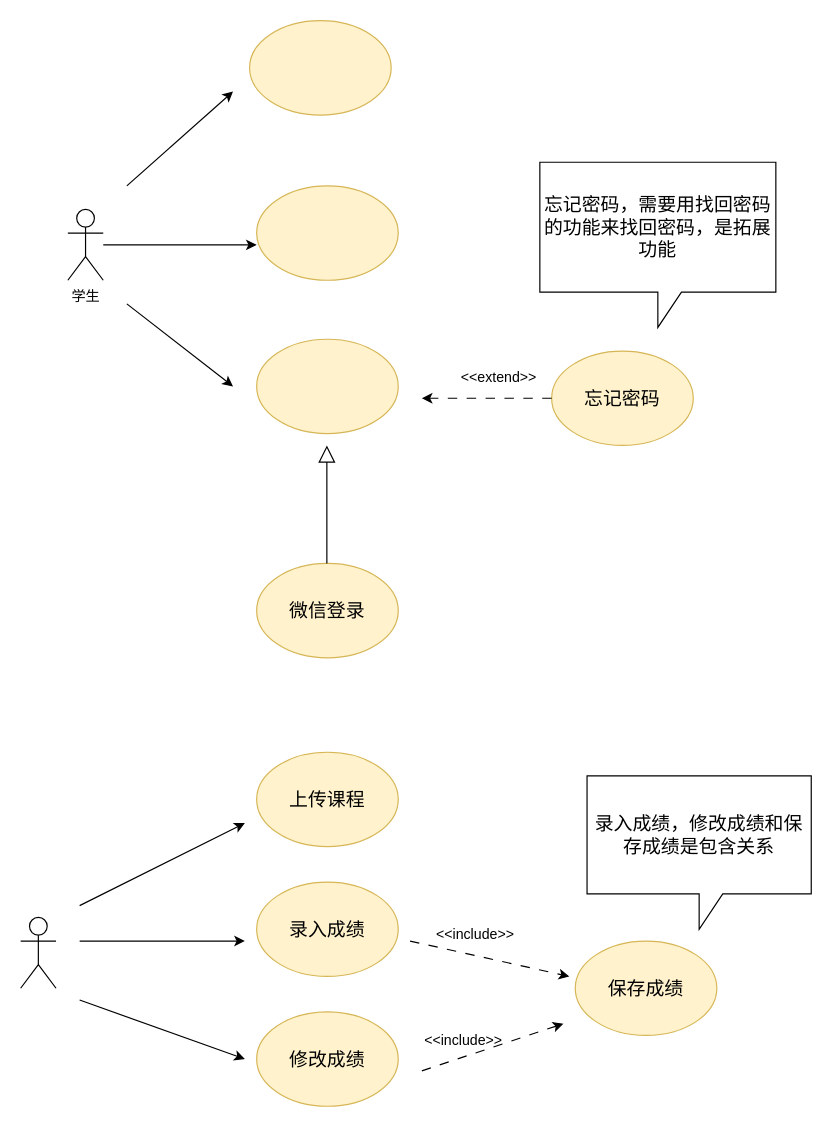
Image size: 832x1127. Some labels were removed from this diagram. The box of each missing label's shape, as (x1, y1, x2, y2) in pixels:
查询成绩: (255, 185, 398, 280)
登录: (255, 338, 398, 434)
老师: (19, 916, 56, 988)
观看课程: (248, 19, 391, 115)
